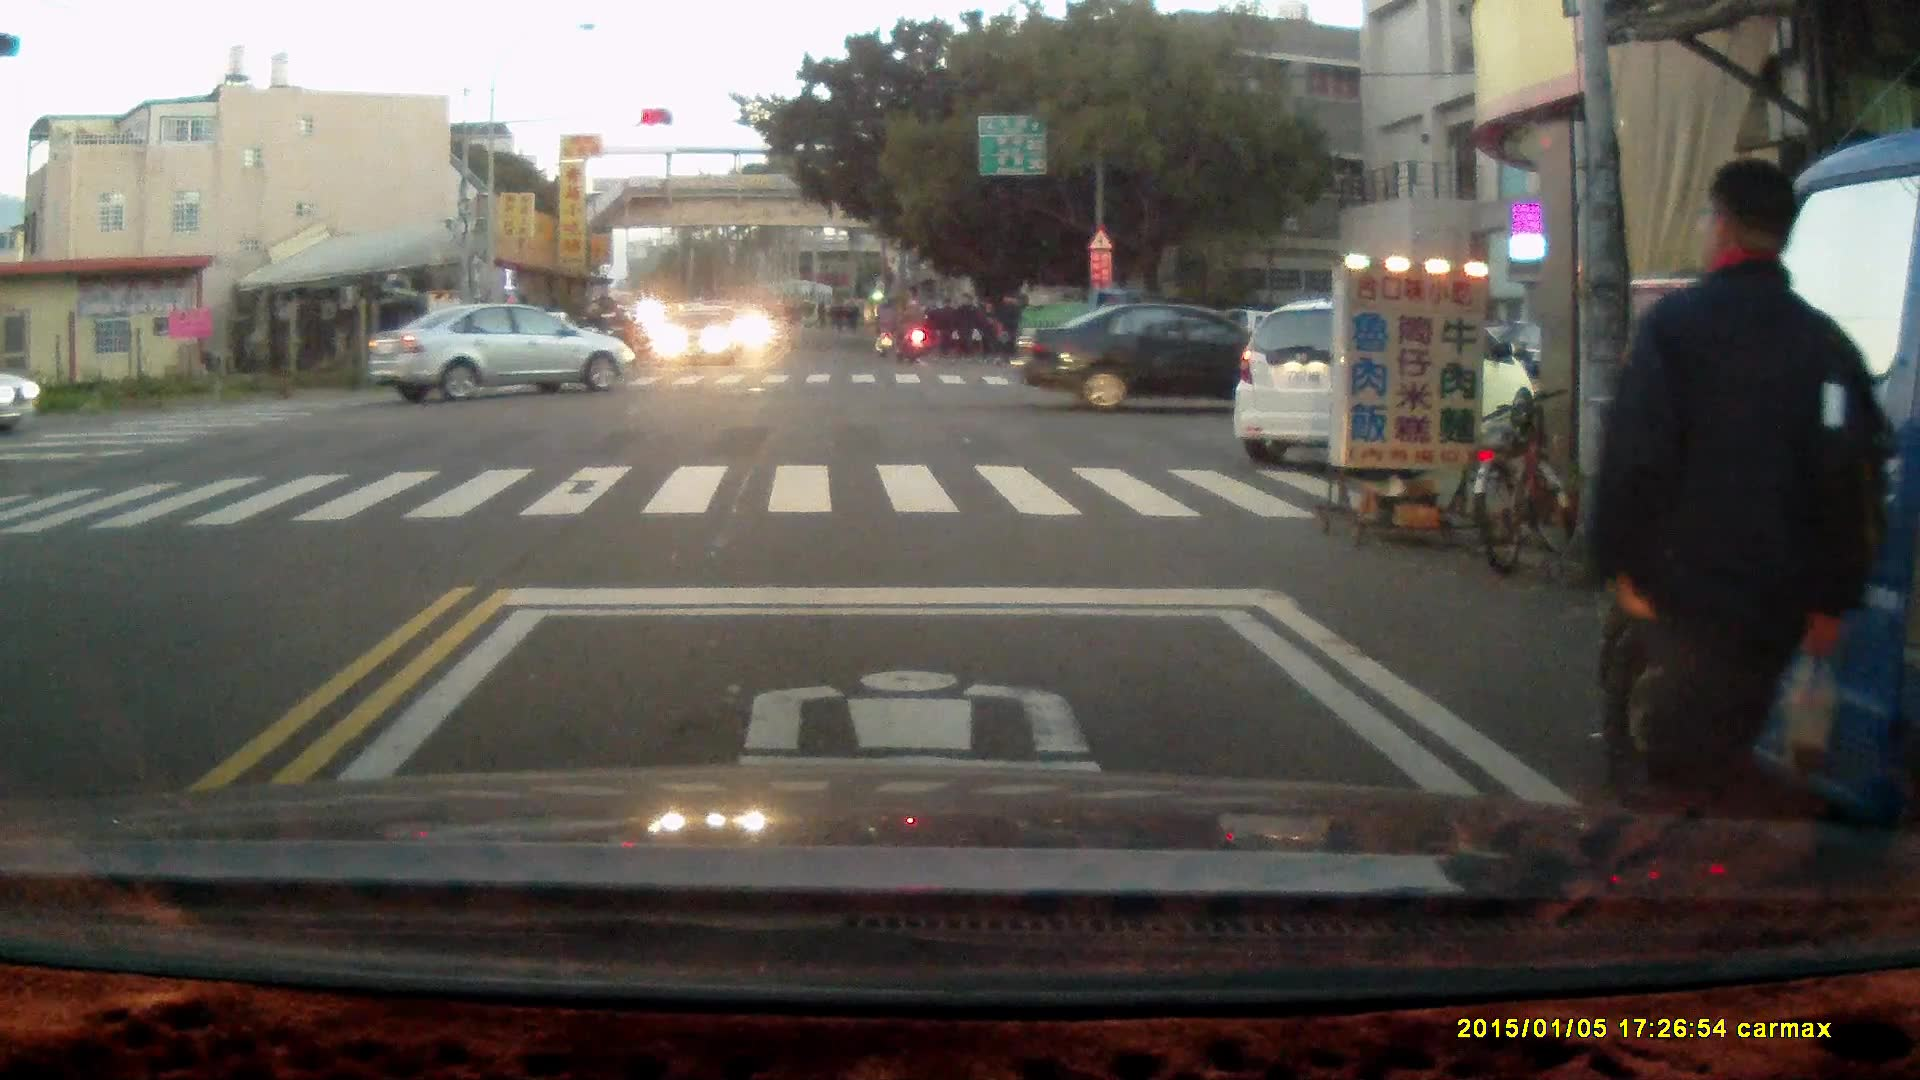pedestrian: (1596, 153, 1884, 852), (992, 291, 1021, 369), (951, 290, 978, 367)
rider: (892, 296, 928, 361), (576, 301, 608, 368), (602, 301, 633, 367), (870, 296, 900, 359)
vehicle: (1598, 132, 1920, 845), (1233, 296, 1533, 459), (1011, 298, 1317, 414), (372, 303, 639, 405), (1002, 284, 1179, 367)
